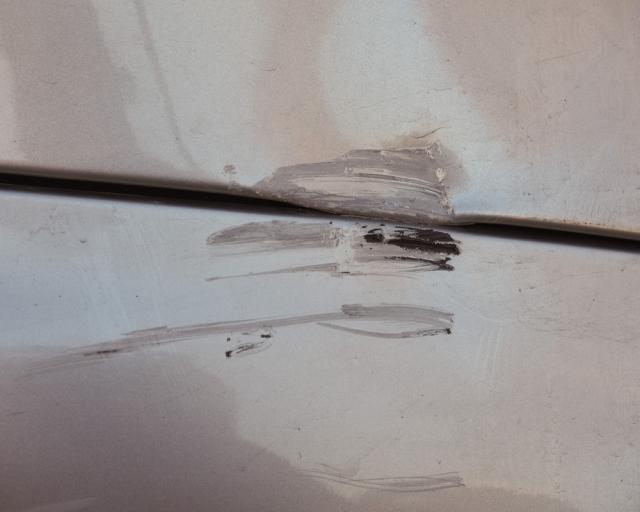scratch: (20, 218, 468, 501), (228, 137, 462, 227)
